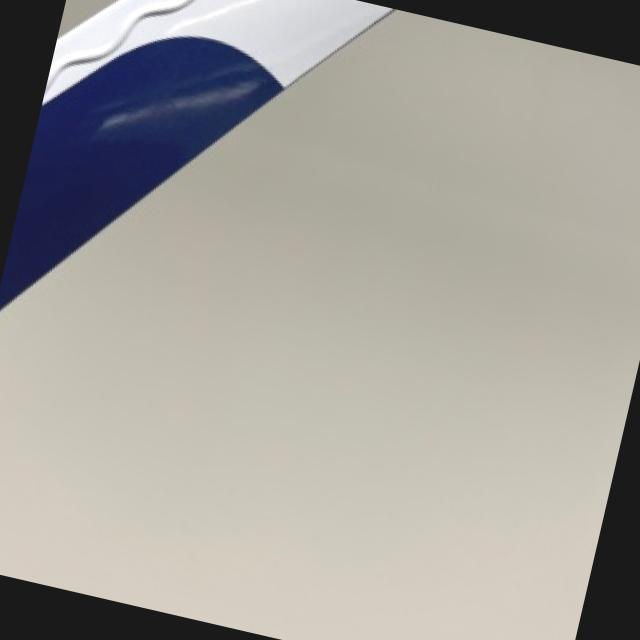healthy: (0, 0, 390, 305)
